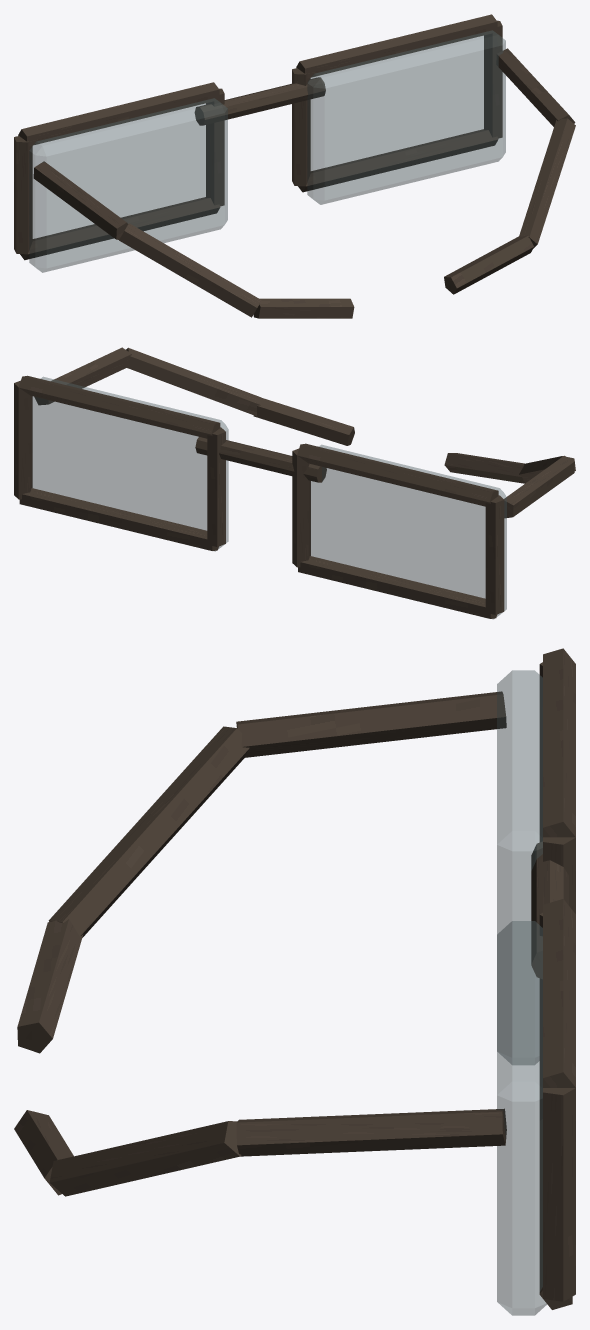
File: sunglasses_eye.glb
The picture shows the model from 3 angles, top to bottom: view 1: azimuth 30°, elevation 25°; view 2: azimuth 150°, elevation 25°; view 3: azimuth 270°, elevation 25°; orthographic projection. The views are drawn at different scales.
Visible parts, largest first — view 1: block_lens 1, block_lens -1, block_lens rim 1 1, block_lens rim -1 1, block_lens rim 1 3, block_folded temple -1 1, block_lens rim -1 3, block_folded temple 1 1, block_bridge, block_folded temple -1 0, block_lens rim -1 0, block_folded temple -1 2 (+5 smaller); view 2: block_lens -1, block_lens 1, block_lens rim -1 1, block_lens rim 1 1, block_lens rim -1 3, block_lens rim 1 3, block_folded temple 1 1, block_lens rim -1 0, block_lens rim 1 0, block_folded temple 1 2, block_bridge, block_lens rim 1 2 (+5 smaller); view 3: block_lens 1, block_lens -1, block_folded temple 1 0, block_folded temple -1 0, block_folded temple -1 1, block_folded temple 1 1, block_lens rim 1 2, block_lens rim -1 1, block_lens rim 1 1, block_folded temple -1 2, block_bridge, block_folded temple 1 2 (+2 smaller).
Part boxes in pixels (x1,y1,x2,y2): block_lens 1: (307, 30, 505, 204); block_lens -1: (29, 98, 227, 272); block_lens rim 1 1: (296, 14, 497, 78); block_lens rim -1 1: (18, 82, 219, 146); block_lens rim 1 3: (298, 129, 498, 192); block_folded temple -1 1: (119, 223, 261, 317); block_lens rim -1 3: (20, 197, 220, 260); block_folded temple 1 1: (519, 118, 575, 248); block_bridge: (194, 77, 325, 125); block_folded temple -1 0: (33, 161, 128, 239); block_lens rim -1 0: (14, 136, 32, 254); block_folded temple -1 2: (253, 298, 354, 318); block_lens -1: (310, 444, 506, 619); block_lens 1: (32, 376, 228, 551); block_lens rim -1 1: (297, 443, 498, 506); block_lens rim 1 1: (19, 375, 220, 438); block_lens rim -1 3: (298, 556, 497, 618); block_lens rim 1 3: (19, 488, 218, 550); block_folded temple 1 1: (126, 347, 260, 416); block_lens rim -1 0: (485, 495, 504, 614); block_lens rim 1 0: (207, 427, 225, 546); block_folded temple 1 2: (253, 397, 354, 445); block_bridge: (195, 437, 326, 482); block_lens rim 1 2: (14, 380, 32, 499); block_lens 1: (497, 921, 546, 1315); block_lens -1: (497, 670, 542, 1064); block_folded temple 1 0: (236, 1108, 506, 1156); block_folded temple -1 0: (236, 691, 506, 757); block_folded temple -1 1: (48, 726, 249, 937); block_folded temple 1 1: (49, 1121, 241, 1196); block_lens rim 1 2: (543, 1088, 575, 1301); block_lens rim -1 1: (543, 648, 575, 837); block_lens rim 1 1: (543, 899, 575, 1087); block_folded temple -1 2: (17, 919, 83, 1053); block_bridge: (531, 841, 568, 979); block_folded temple 1 2: (14, 1110, 73, 1195).
Bounding box in the file's own units: 0.1366 × 0.0363 × 0.074.
2 materials, 2 textured.
